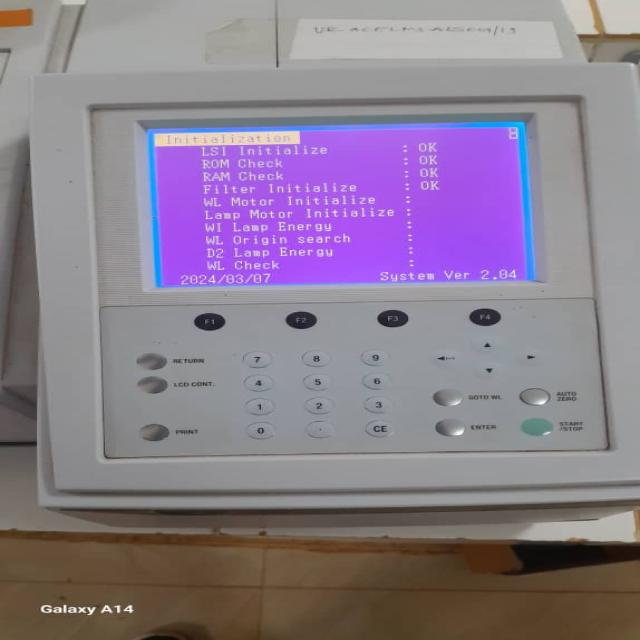Spectrophotometer: (32, 90, 640, 506)
